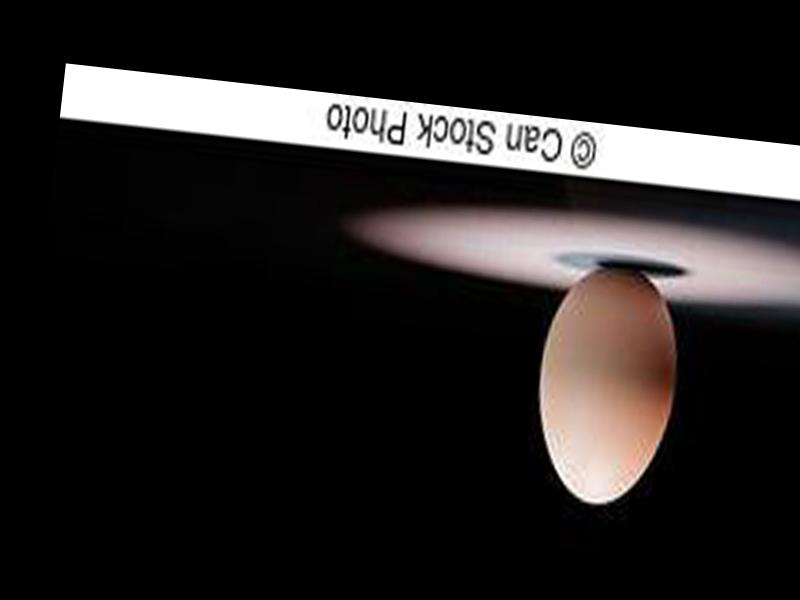Eggs: (526, 256, 691, 510)
